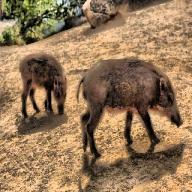boar: (76, 57, 182, 157), (19, 52, 67, 118)
